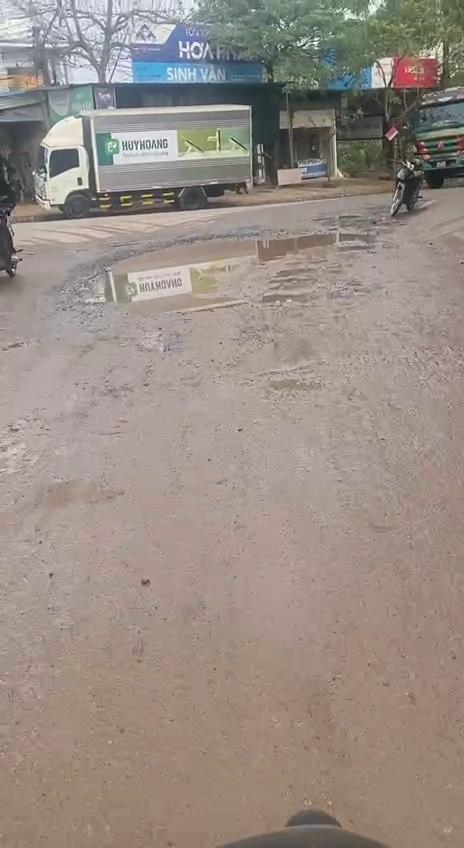pothole: (80, 225, 381, 310)
